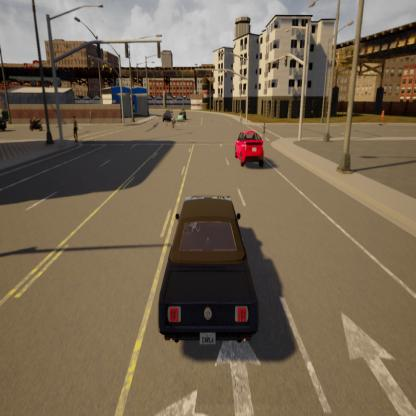Cars: (157, 188, 263, 355), (229, 130, 267, 171), (163, 111, 172, 124), (178, 111, 186, 123)
Pedestrian: (70, 115, 86, 147)
